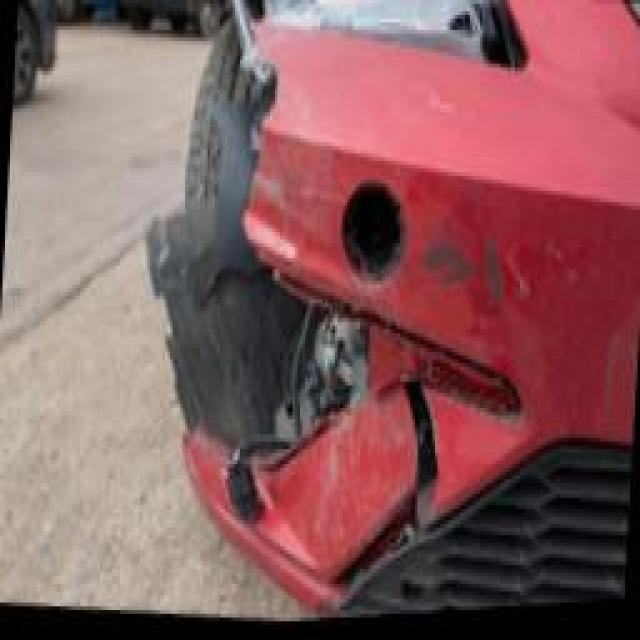Bumper: (152, 28, 640, 622)
Light: (248, 0, 532, 73)
